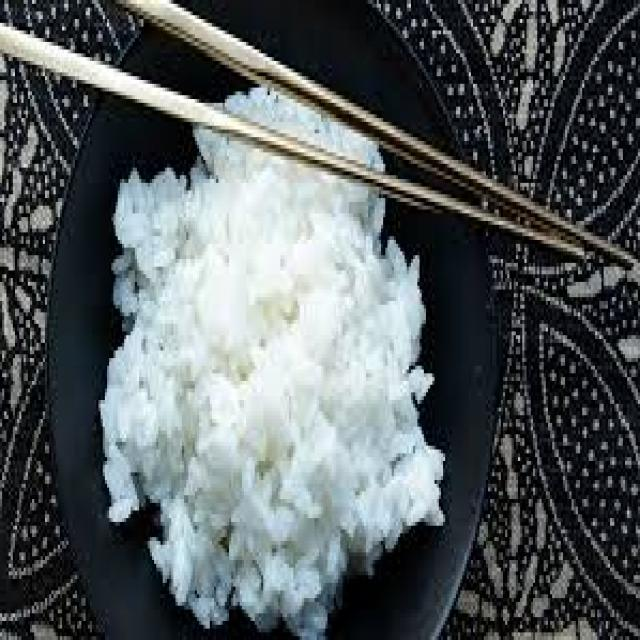White Rice: (94, 114, 424, 630)
